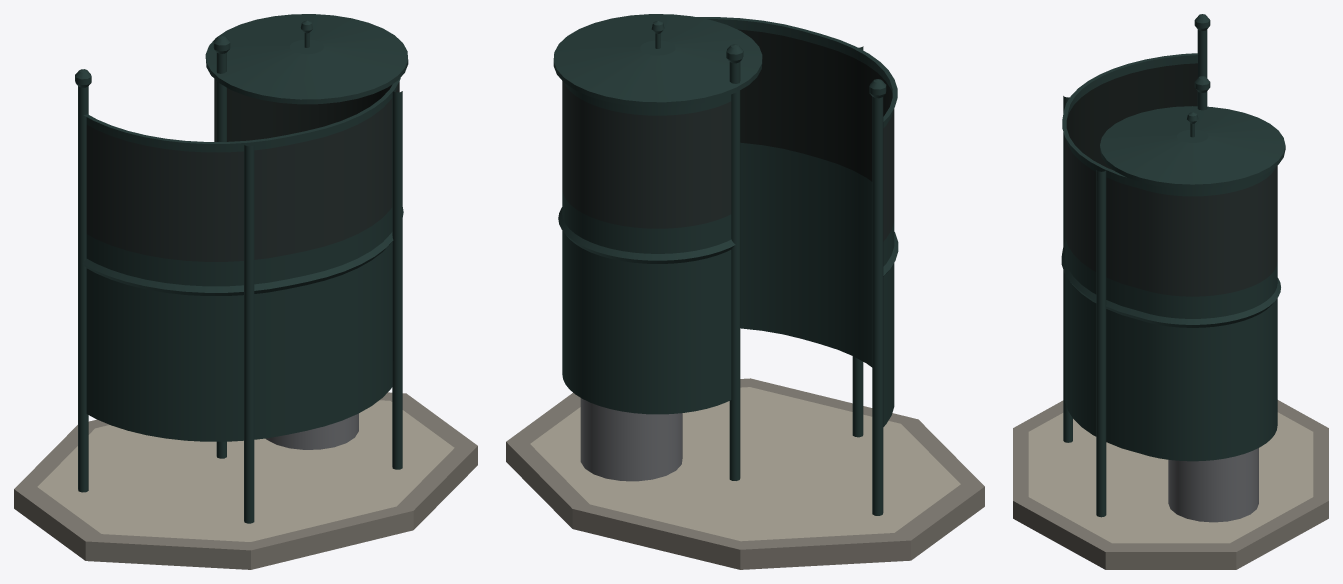
The model's file is urinal-krul.glb.
The picture shows the model from 3 angles, left to right: view 1: azimuth 30°, elevation 25°; view 2: azimuth 150°, elevation 25°; view 3: azimuth 270°, elevation 25°; orthographic projection. The views are drawn at different scales.
Visible parts, largest first — view 1: urinal-krul; view 2: urinal-krul; view 3: urinal-krul.
Part boxes in pixels (<box>): urinal-krul: <box>14,14,477,569</box>; urinal-krul: <box>506,14,984,569</box>; urinal-krul: <box>1013,14,1328,569</box>.
Bounding box in the file's own units: 2.1 × 2.25 × 1.6.
